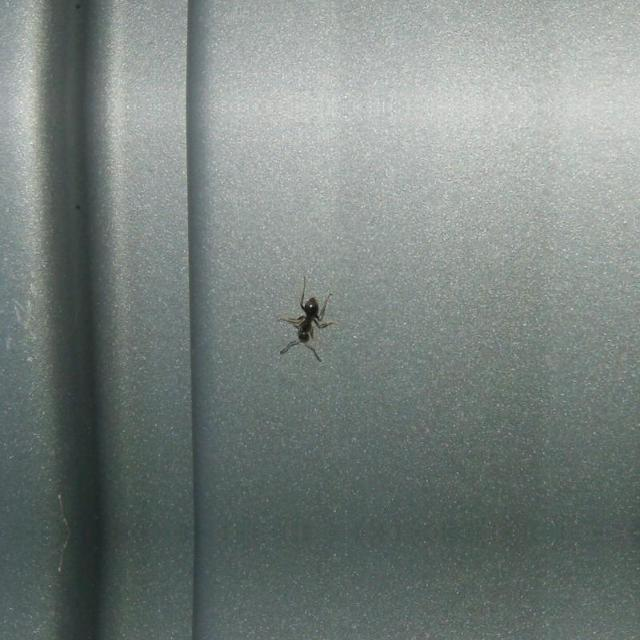Lasius: (282, 286, 334, 350)
